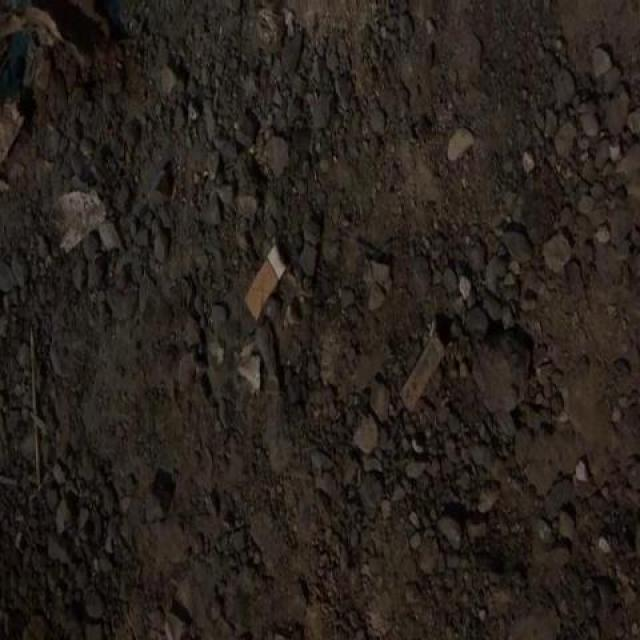non-organic waste: (398, 329, 449, 418), (240, 242, 293, 326)
